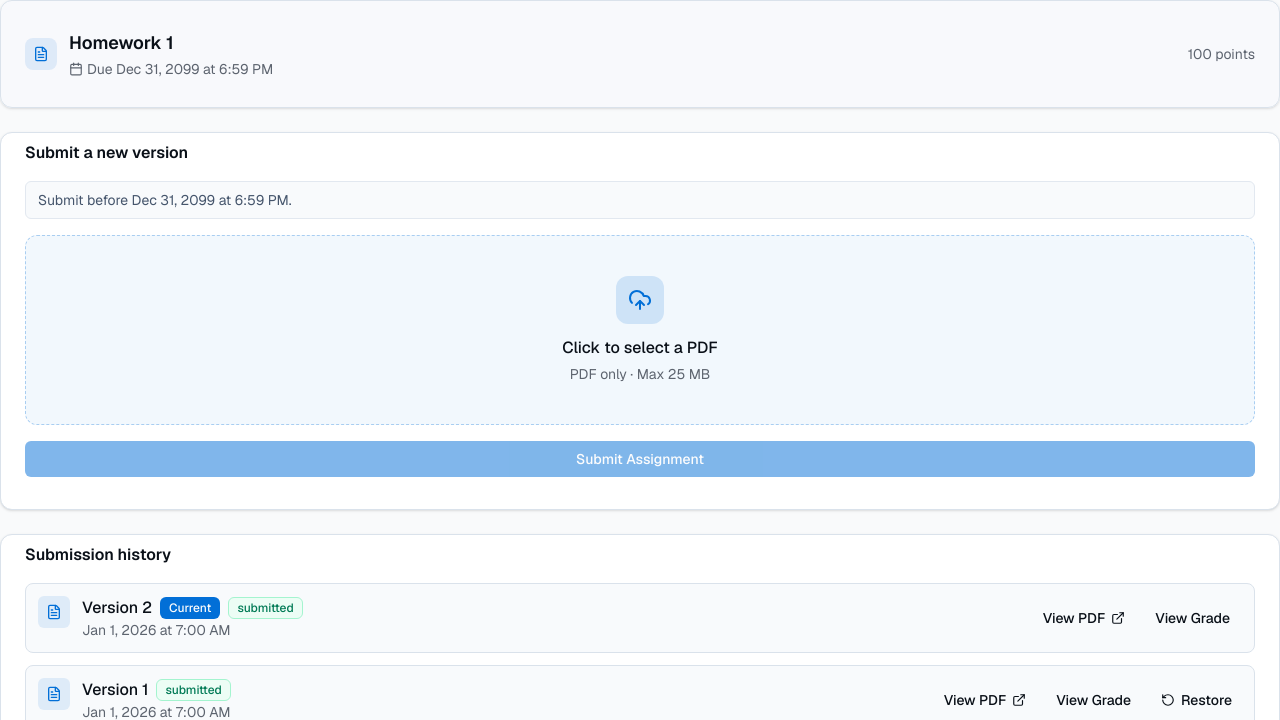
Scenario: restoreSubmission › shows error message from API response on failed restore
Click the button "Restore" at (1196, 700), box [1151,684,1242,716]
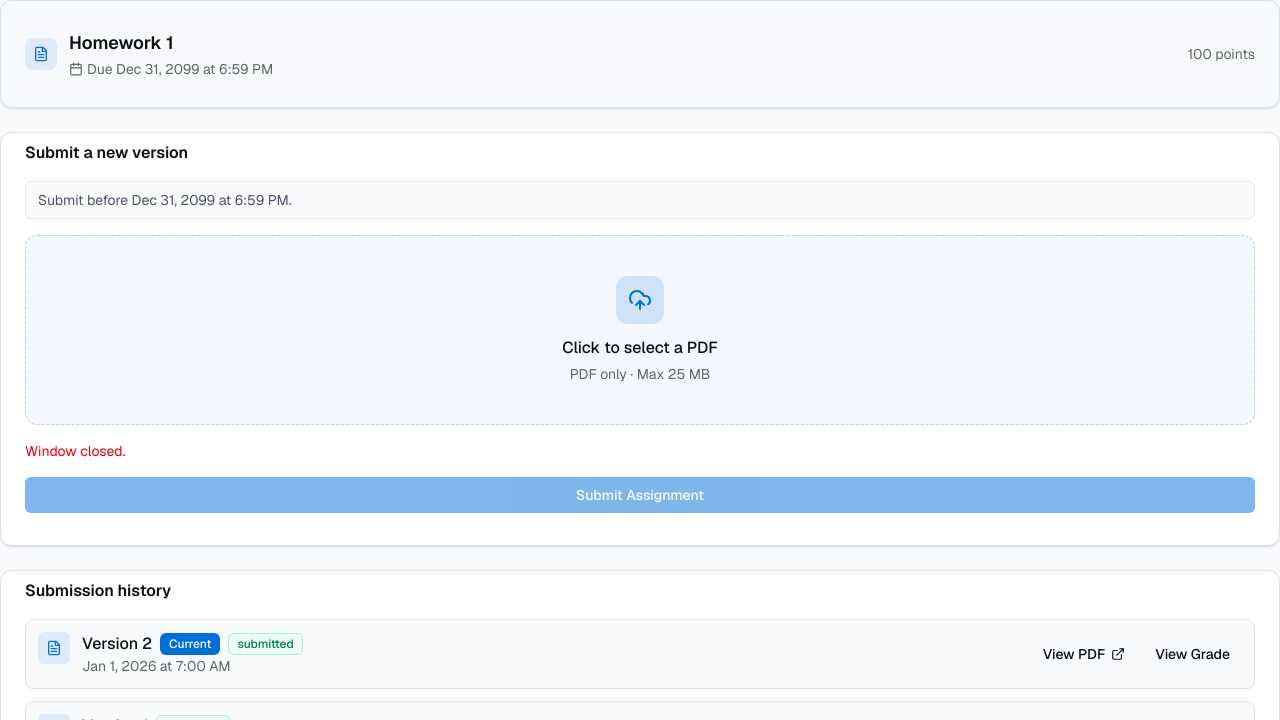
Now the text "Window closed." is shown, box [25,442,125,460]
